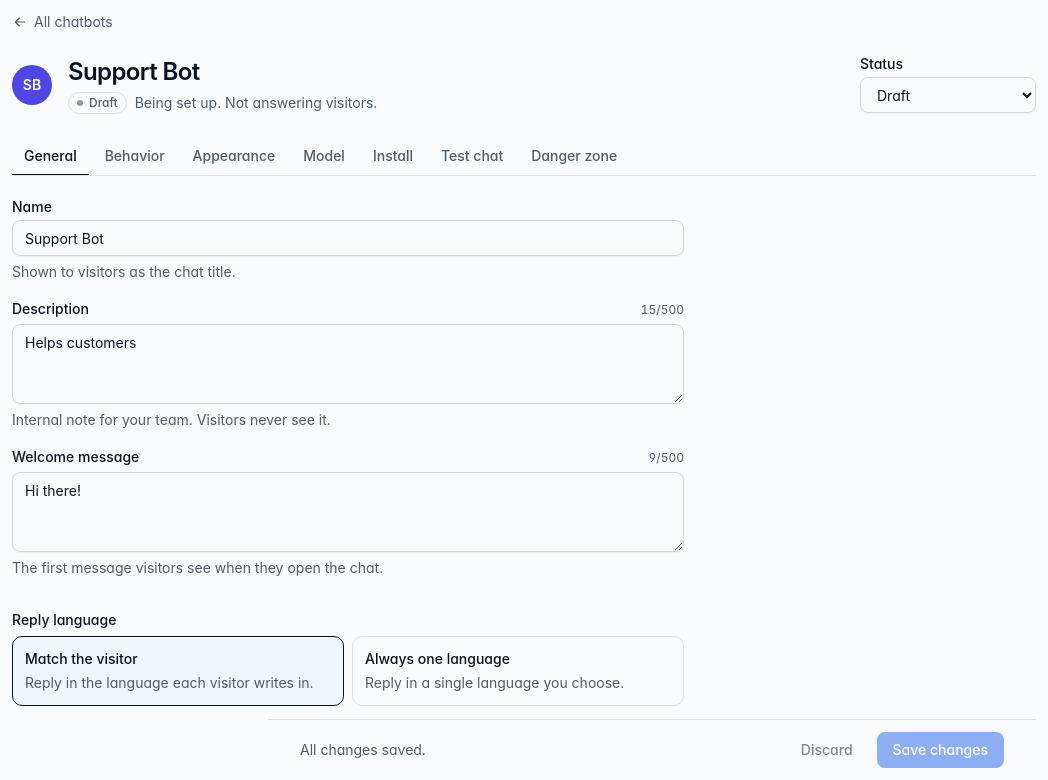
Scenario: ChatbotEditor › enables saving only after a change and sends just the changed fields
Expected: the button "Save changes" is disabled, [876,732,1004,768]
Expected: the text "All changes saved." is shown, [300,740,426,760]
Replace the text in the field labelled "Name" with "Renamed Bot" at (348, 238), box [12,220,684,256]
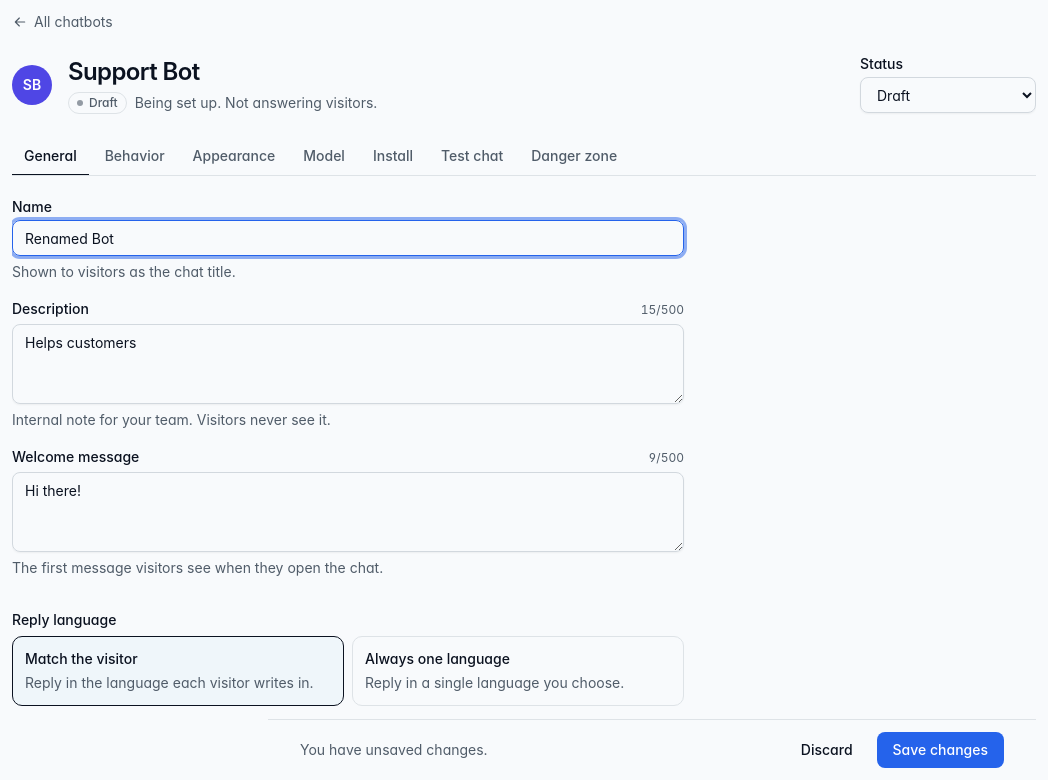
Expected: the text "You have unsaved changes." is shown, [300,740,488,760]
Click the button "Save changes" at (940, 750), box [876,732,1004,768]
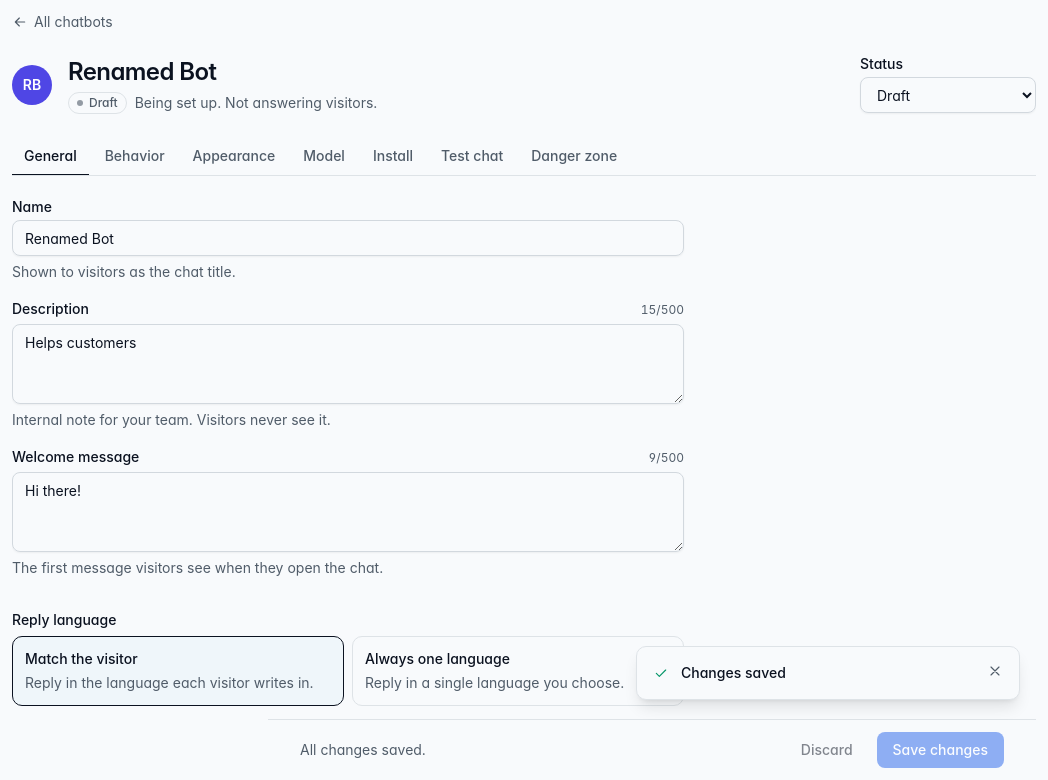
Expected: the text "Changes saved" is shown, [681,664,786,681]
Expected: the button "Save changes" is disabled, [876,732,1004,768]
